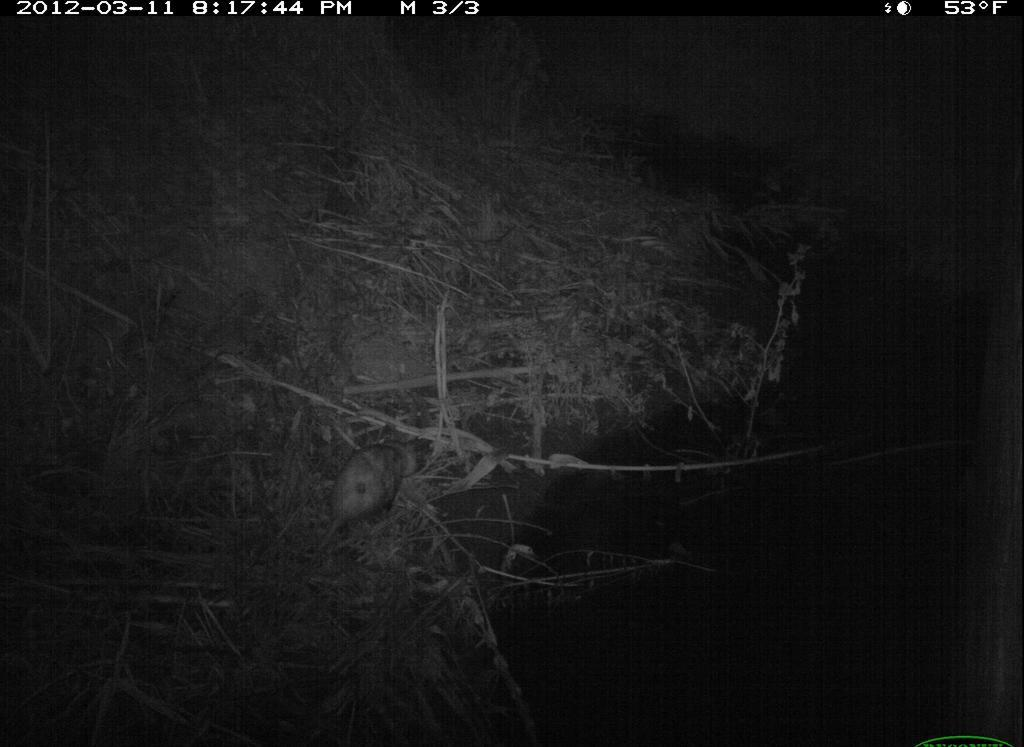opossum: (291, 436, 432, 566)
